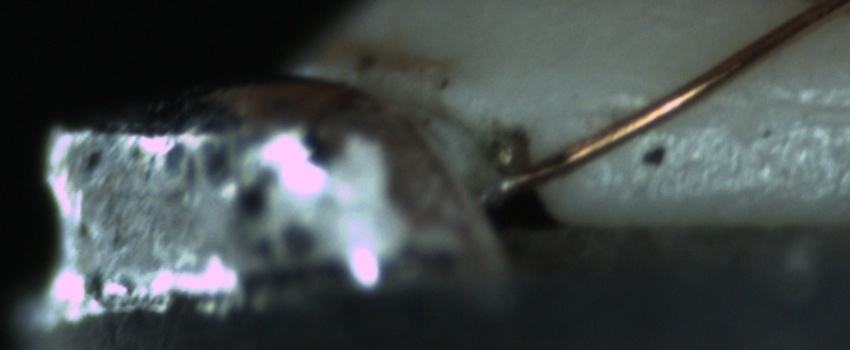DL: (615, 70, 846, 153)
